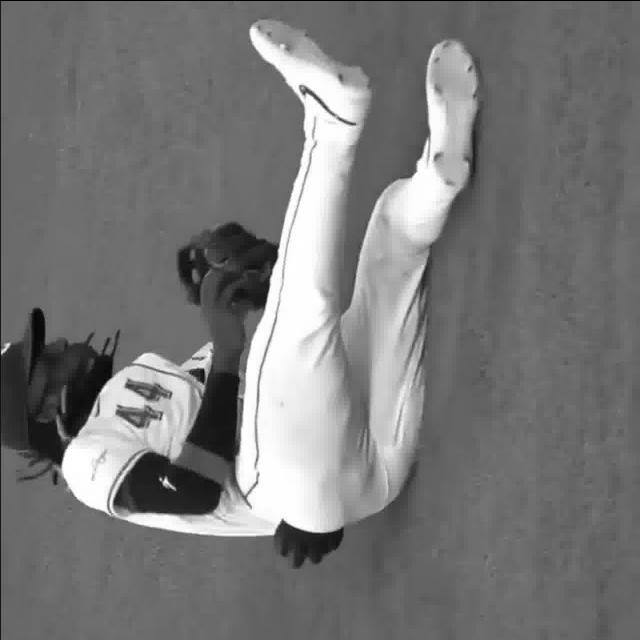baseball_glove: (173, 219, 278, 311)
shoe: (250, 7, 380, 127), (426, 36, 482, 190)
